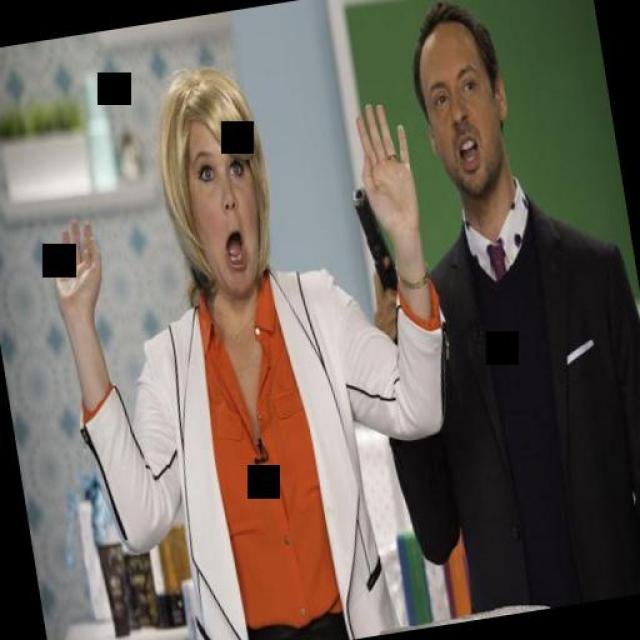gun: (348, 166, 422, 345)
